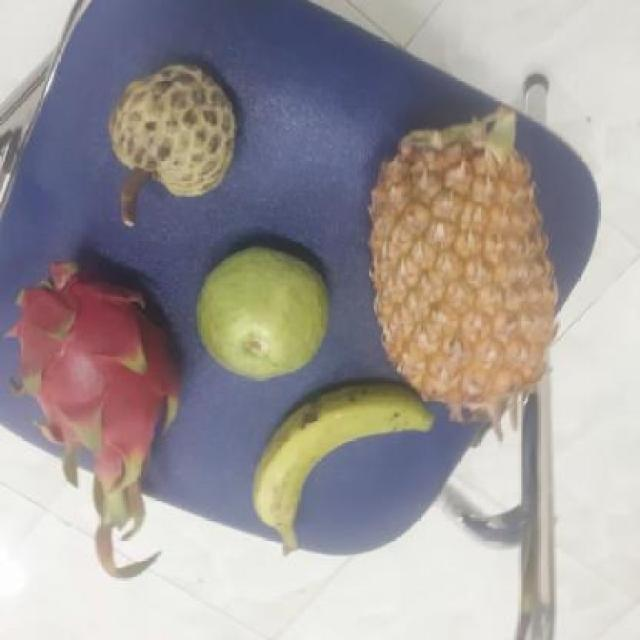banana: (252, 378, 443, 552)
dragon fruit: (17, 260, 189, 474)
guava: (196, 246, 338, 379)
pineapple: (366, 119, 574, 407)
sugar apple: (108, 62, 247, 201)
